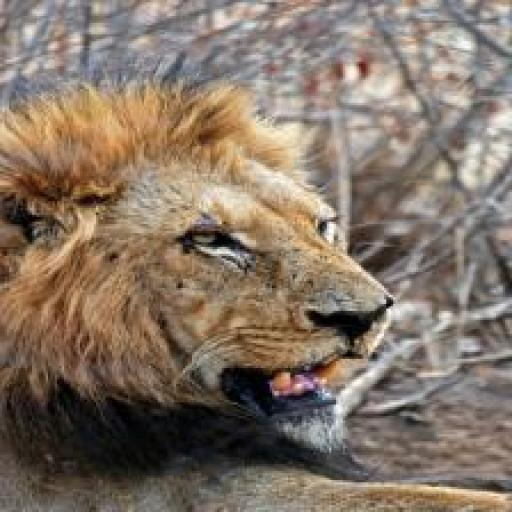lion: (4, 75, 512, 510)
